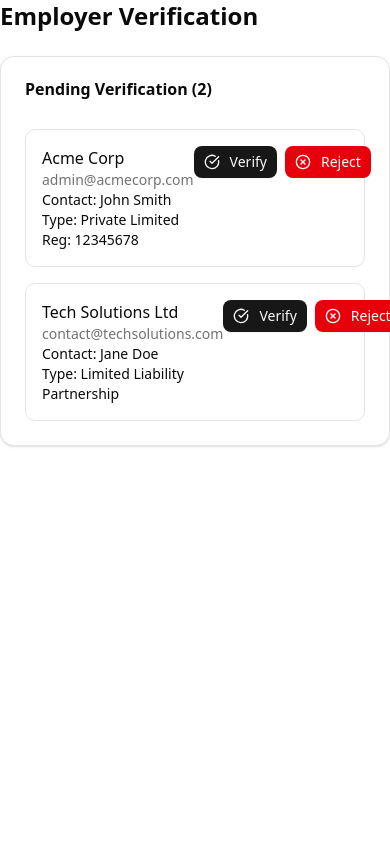
it: EmployerVerification › enables confirm rejection button when reason has 10+ characters
The width and height of the screenshot is (390, 844).
# Click first Reject button
Step 1. Click the button "Reject" in the row of "admin@acmecorp.com" → click(328, 162), box [285, 146, 371, 178]
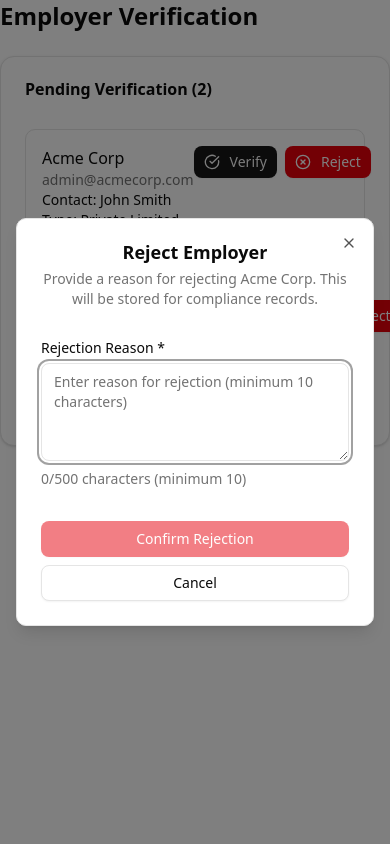
expect the dialog is shown: met, box [16, 218, 374, 626]
# Type valid rejection reason (10+ characters)
Step 2. Type "This is a valid reason for rejection" into the text box labelled "Rejection Reason *" → (195, 412), box [41, 363, 349, 461]
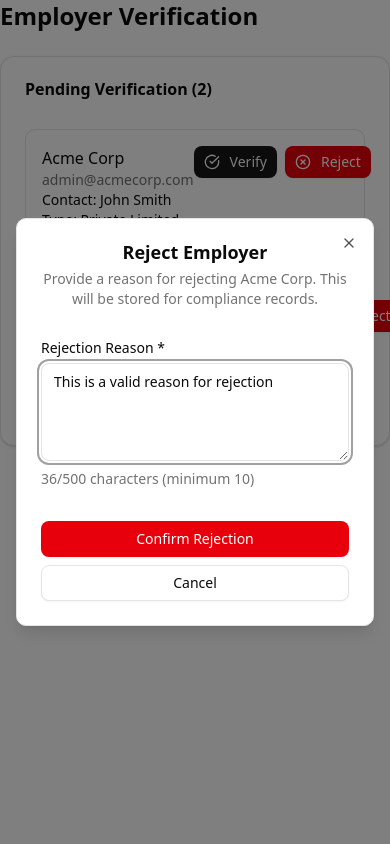
expect the button "Confirm Rejection" is enabled: met, box [41, 521, 349, 557]
